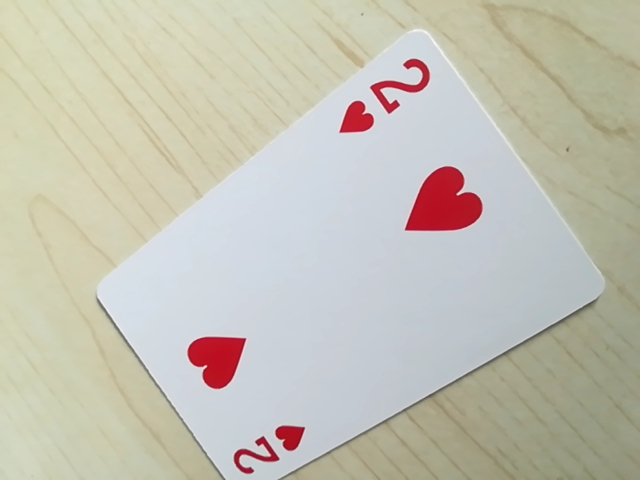hx 2: (339, 54, 432, 141), (223, 424, 310, 480)
